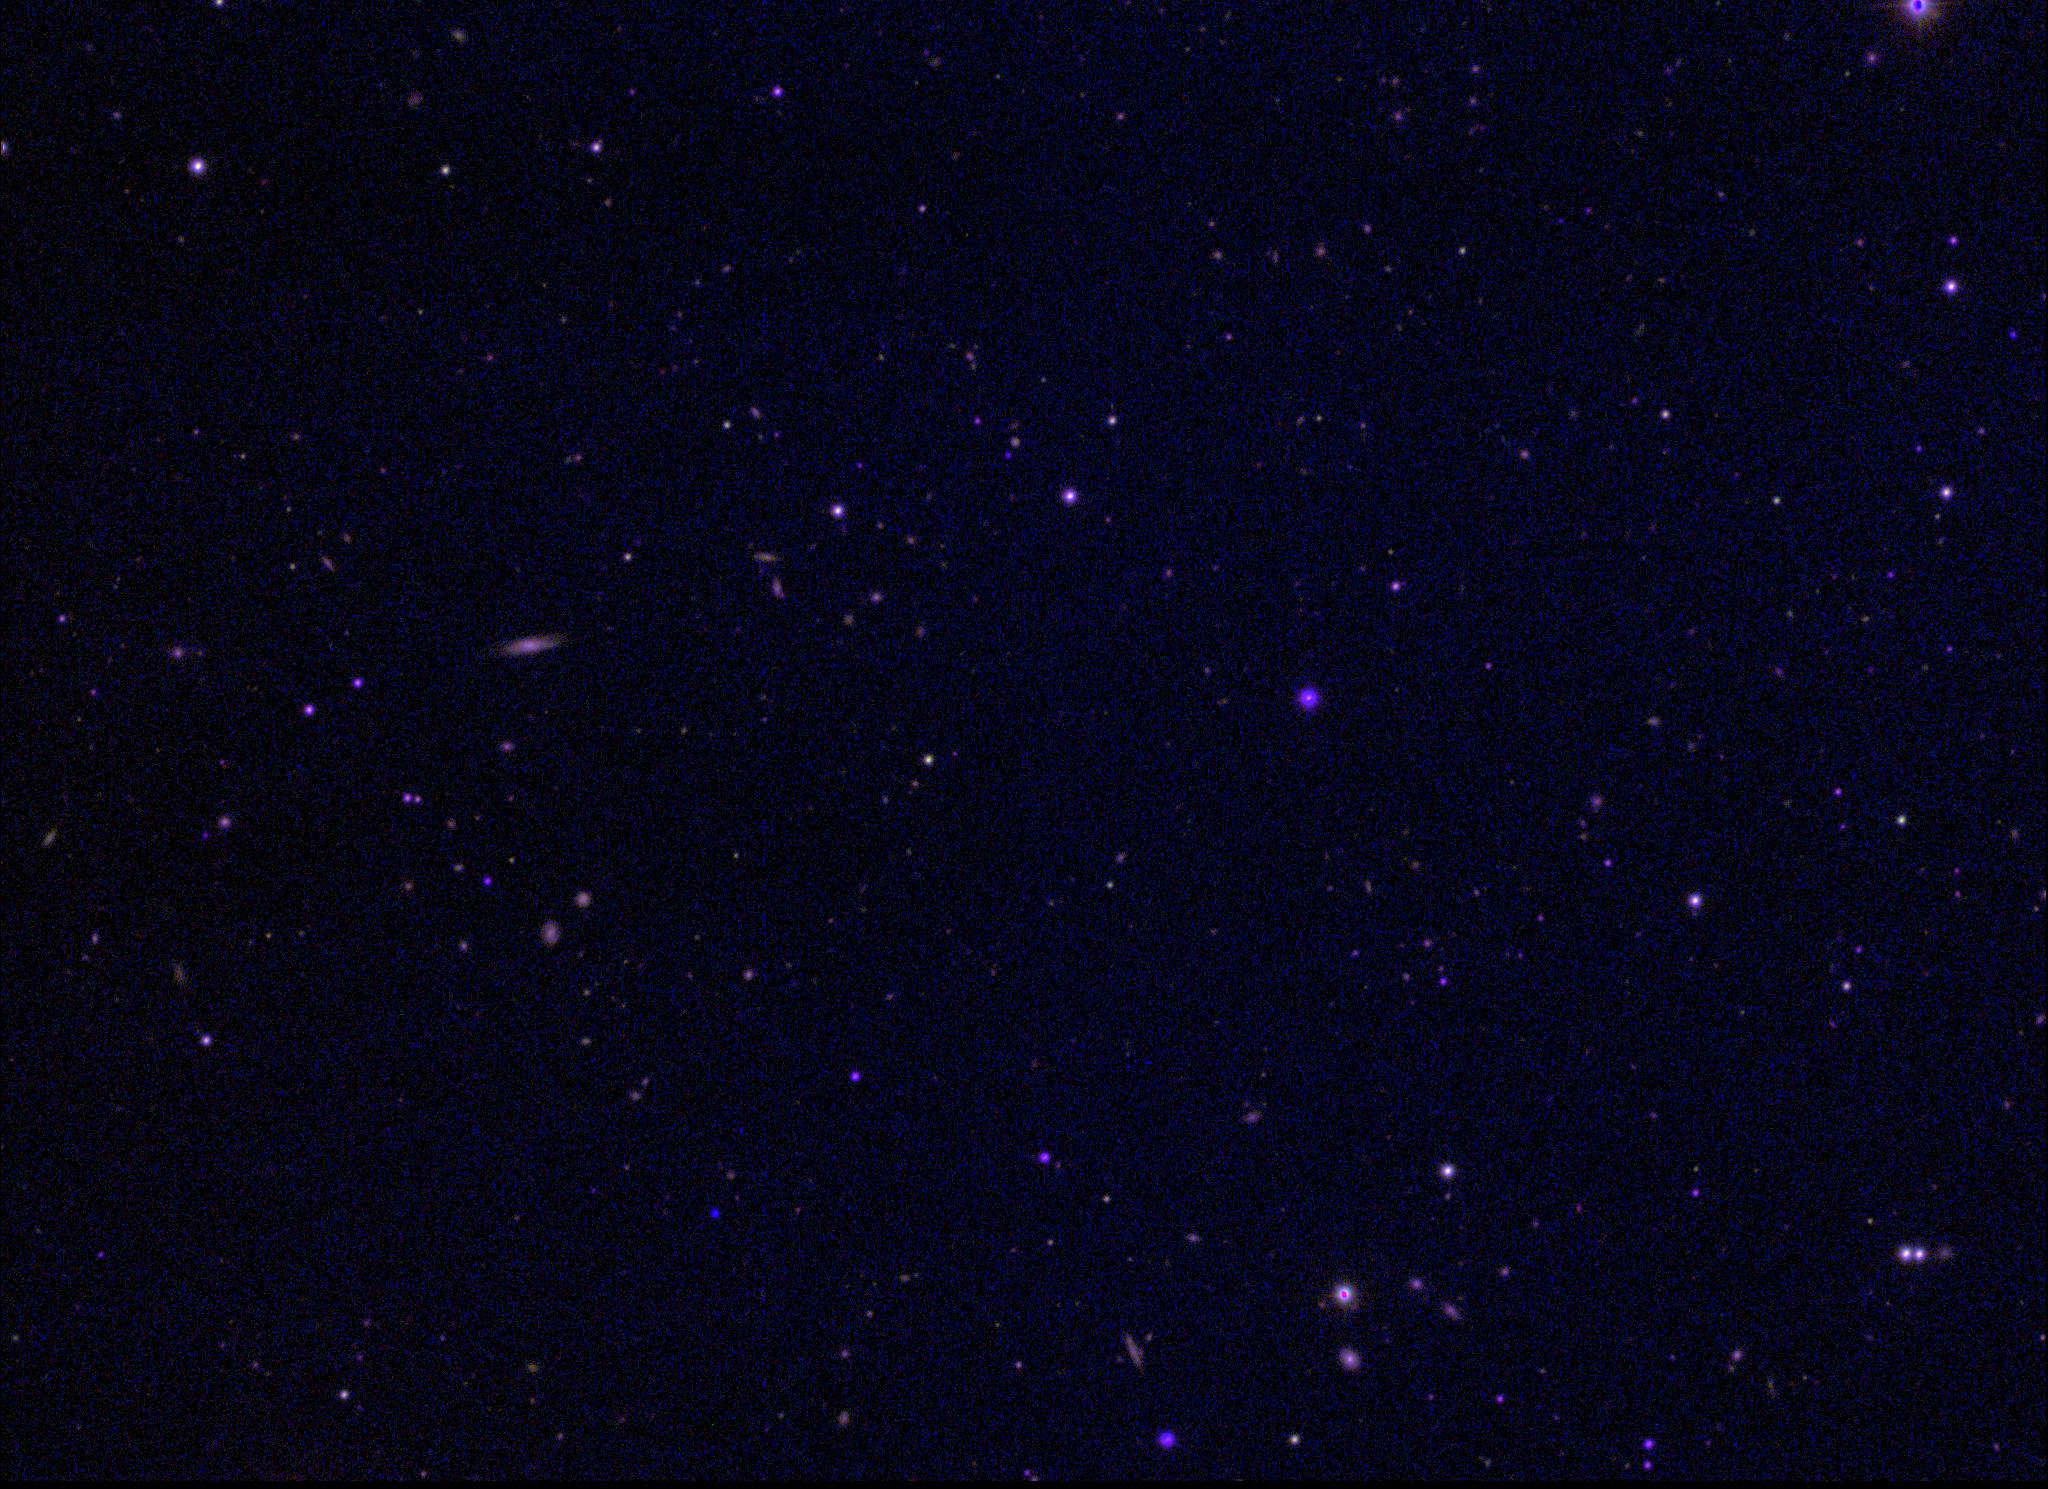L: (708, 1207, 722, 1222)
